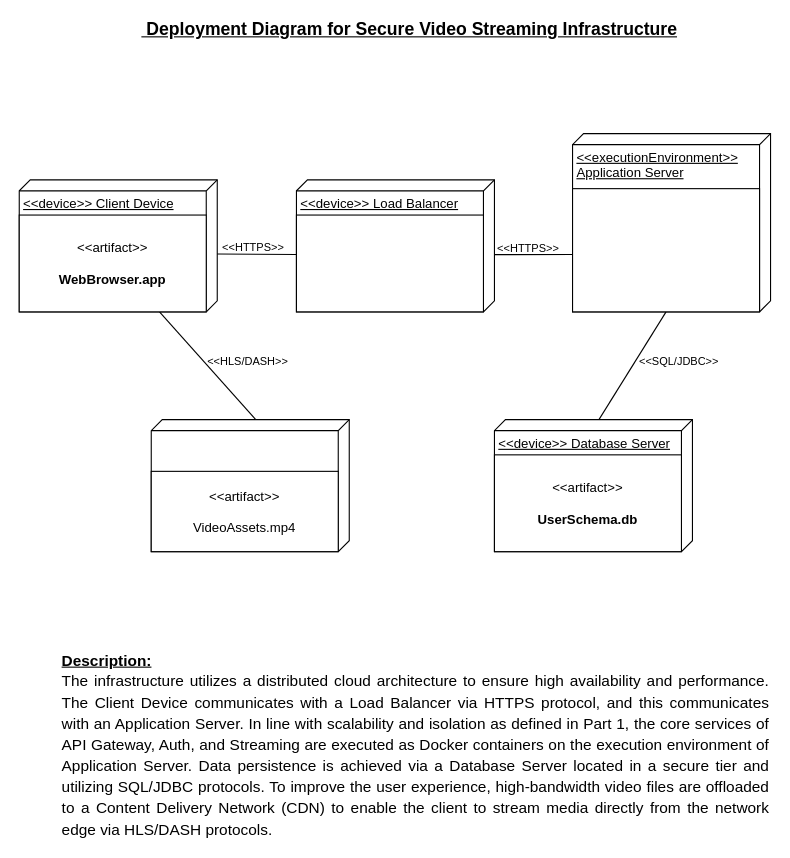
This 790x858 diagram has some shape labels left out. Each missing label, with the box of its shape:
<<artifact>> <<Docker Engine>> Auth_Manager Streaming_Manager API_Gateway: (571, 188, 760, 312)
<<artifact>> Nginx.conf: (295, 214, 483, 312)
<<execution environment>> CDN Node: (150, 419, 349, 552)
